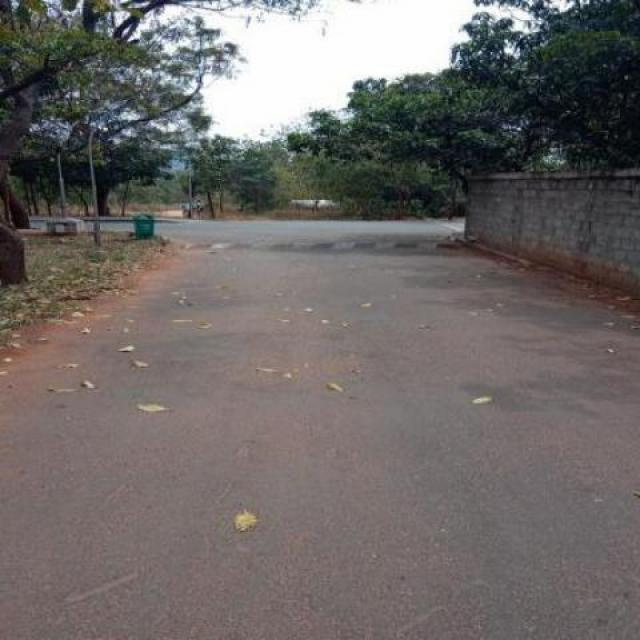Speed Bump: (156, 238, 464, 253)
